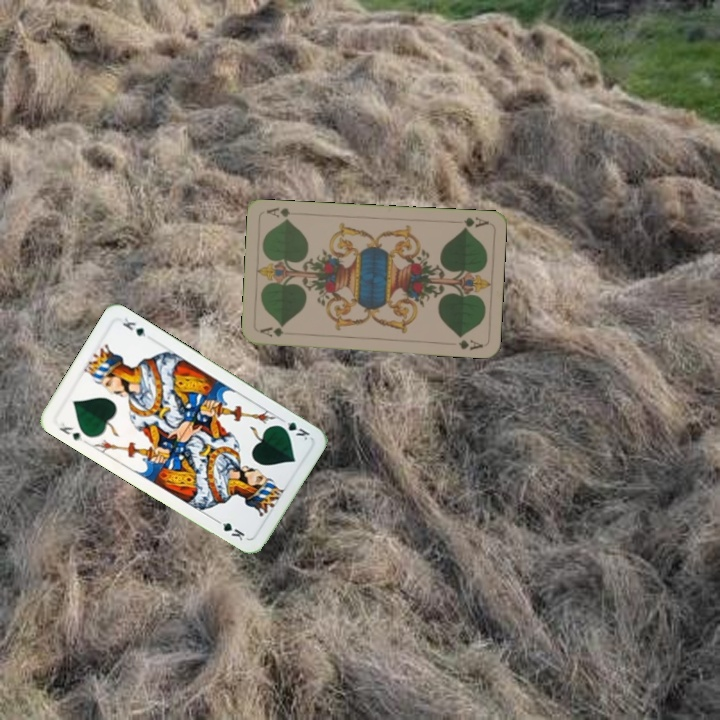GA: (256, 323, 296, 339), (459, 213, 490, 232)
GK: (274, 414, 312, 443), (55, 418, 87, 444)
